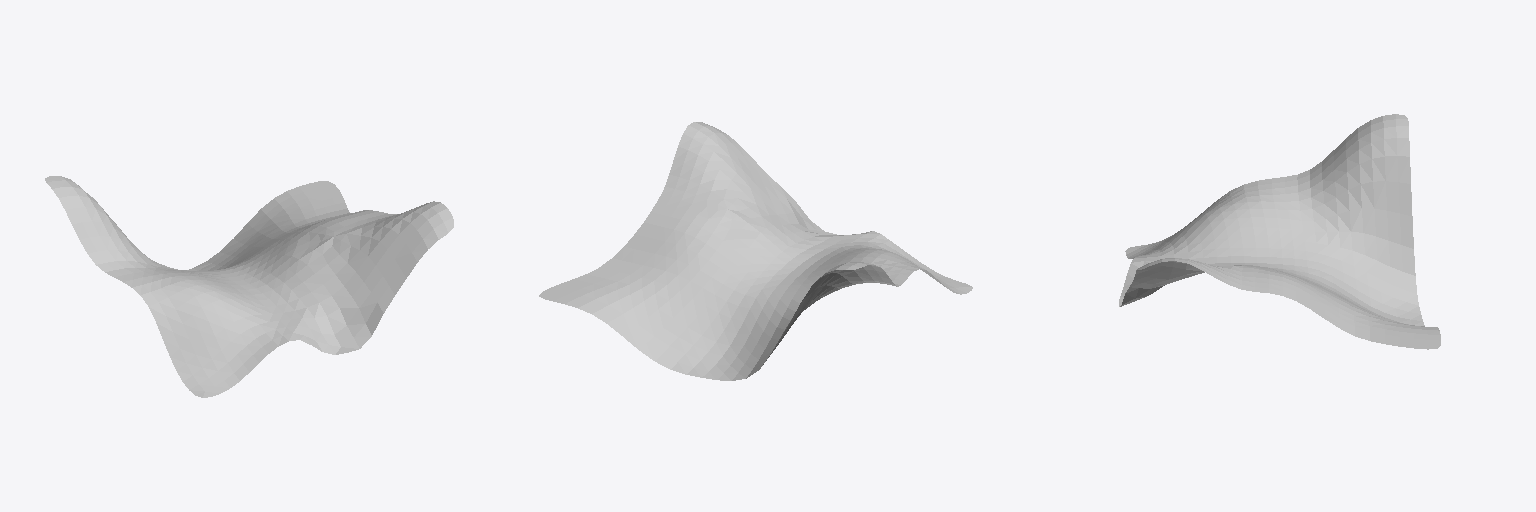
The model's file is Mesh4_Original.obj.
3 renders of one model, left to right at view 1: azimuth 30°, elevation 25°; view 2: azimuth 150°, elevation 25°; view 3: azimuth 270°, elevation 25°, orthographic.
Parts seen in each view (by area): view 1: Full_Plane.009; view 2: Full_Plane.009; view 3: Full_Plane.009.
Boxes of the visible parts, x1,y1,x2,y2 form: Full_Plane.009: [45, 176, 453, 397]; Full_Plane.009: [539, 122, 972, 380]; Full_Plane.009: [1119, 114, 1440, 349].
Bounding box in the file's own units: 2.52 × 1.08 × 2.31.